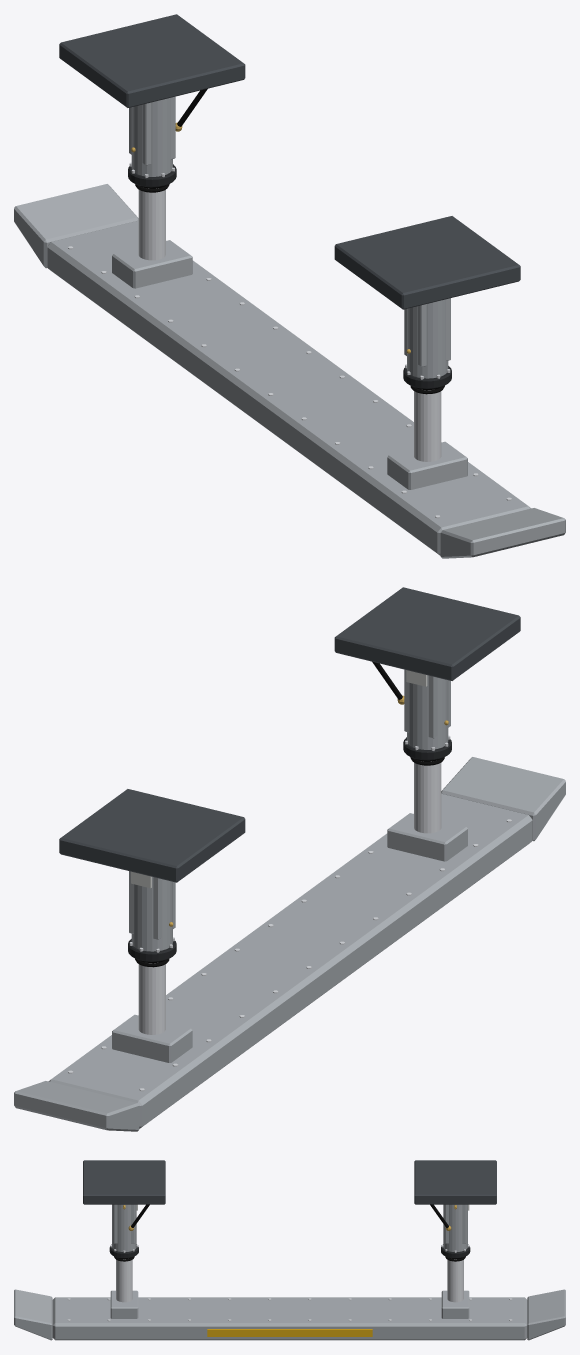
Rendered from landing_skid.glb.
The picture shows the model from 3 angles, top to bottom: view 1: azimuth 30°, elevation 25°; view 2: azimuth 150°, elevation 25°; view 3: azimuth 270°, elevation 25°; orthographic projection. The views are drawn at different scales.
Parts seen in each view (by area): view 1: skid, base; view 2: skid, base; view 3: skid, base.
Boxes of the visible parts, x1,y1,x2,y2 form: skid: (14, 184, 565, 558); base: (59, 14, 520, 388); skid: (14, 757, 565, 1131); base: (59, 587, 520, 961); skid: (14, 1256, 565, 1340); base: (83, 1160, 496, 1258).
Bounding box in the file's own units: 0.6 × 1.2 × 4.
